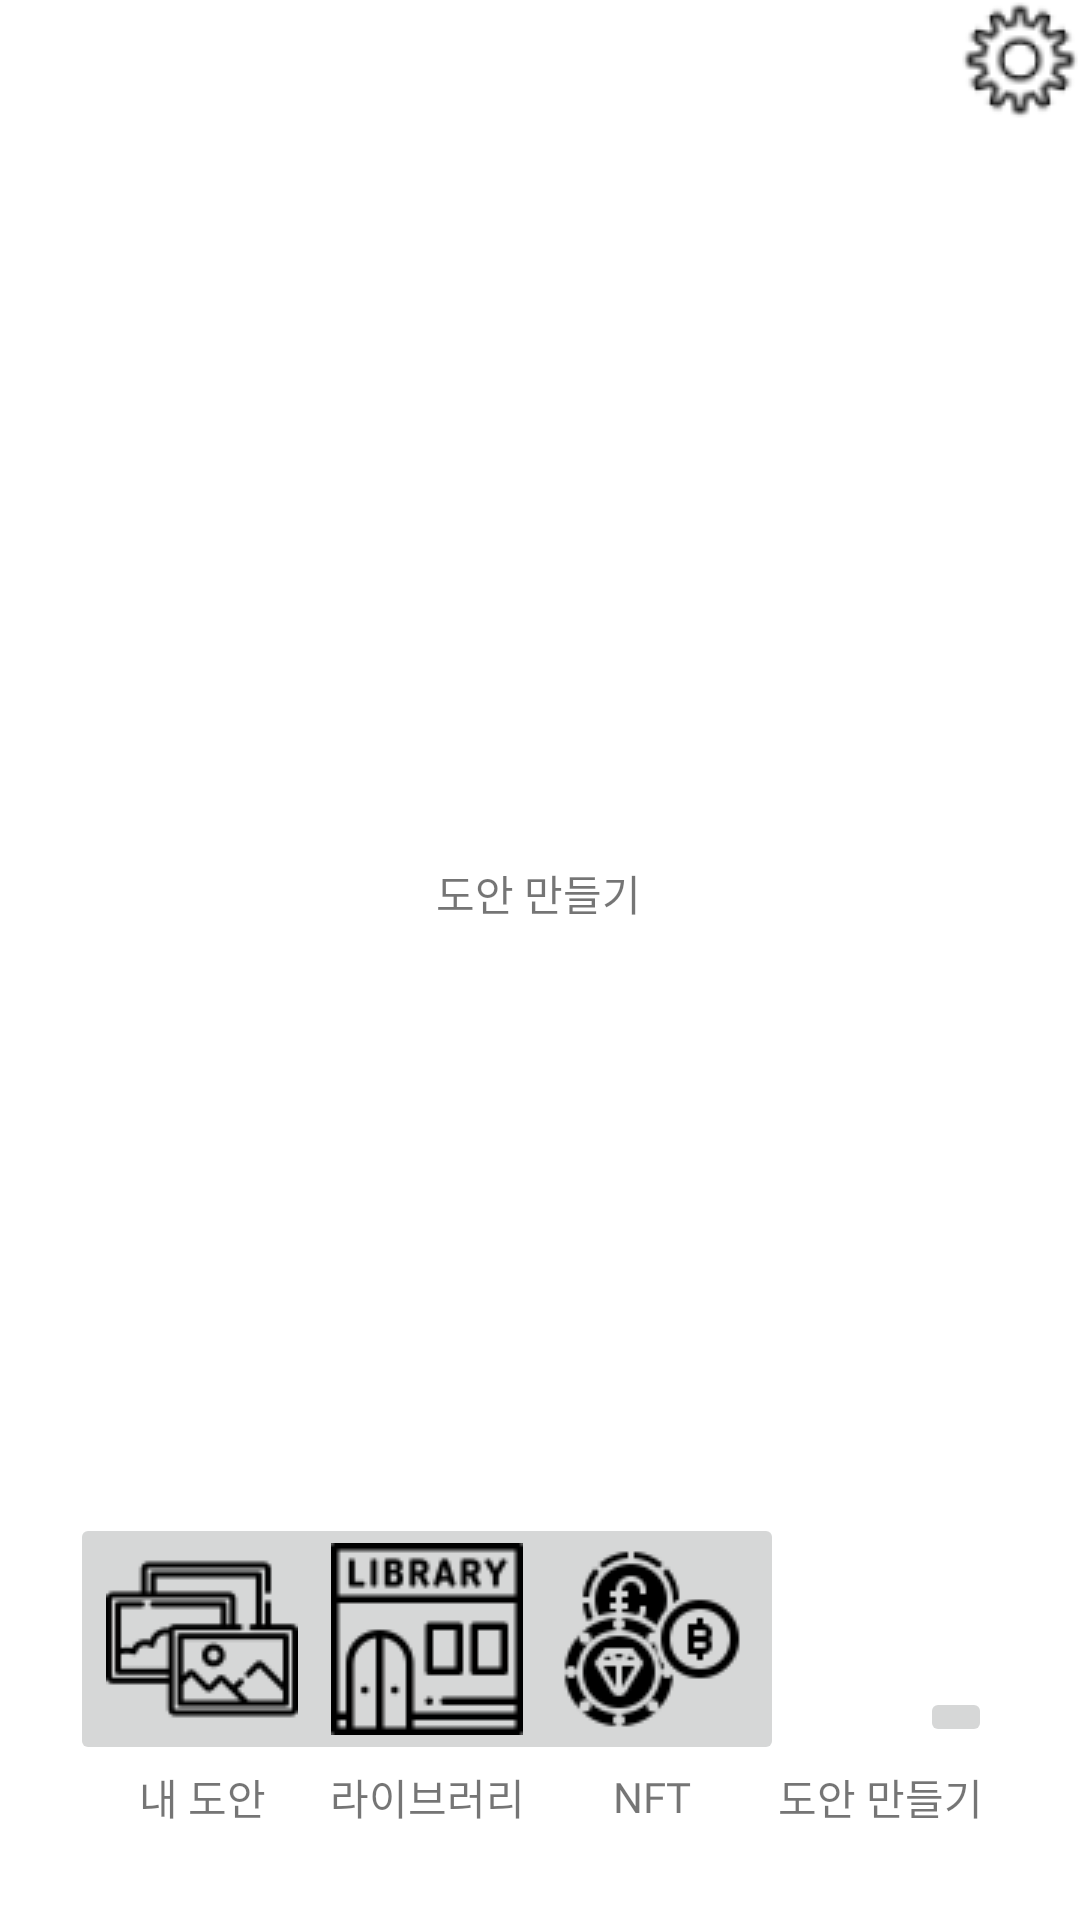

Named icons in this screenshot (1080px x 1920px) and their bounding boxes, (x1, y1, x2, y2):
setting: (964, 4, 1076, 115)
